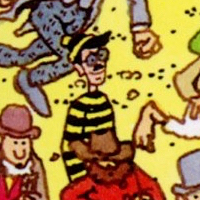odlaw: (72, 32, 111, 83)
